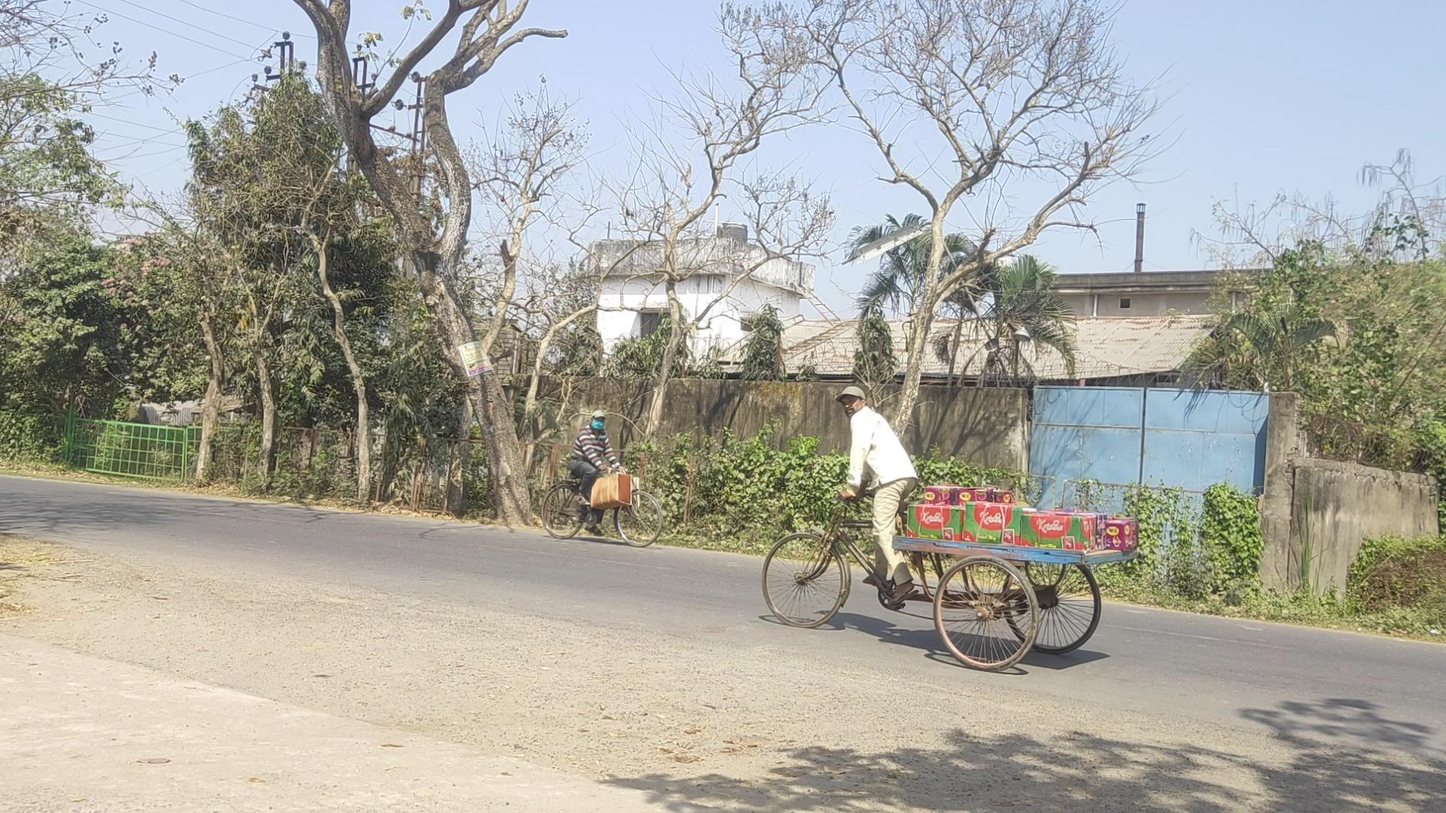bike: (540, 410, 664, 547)
